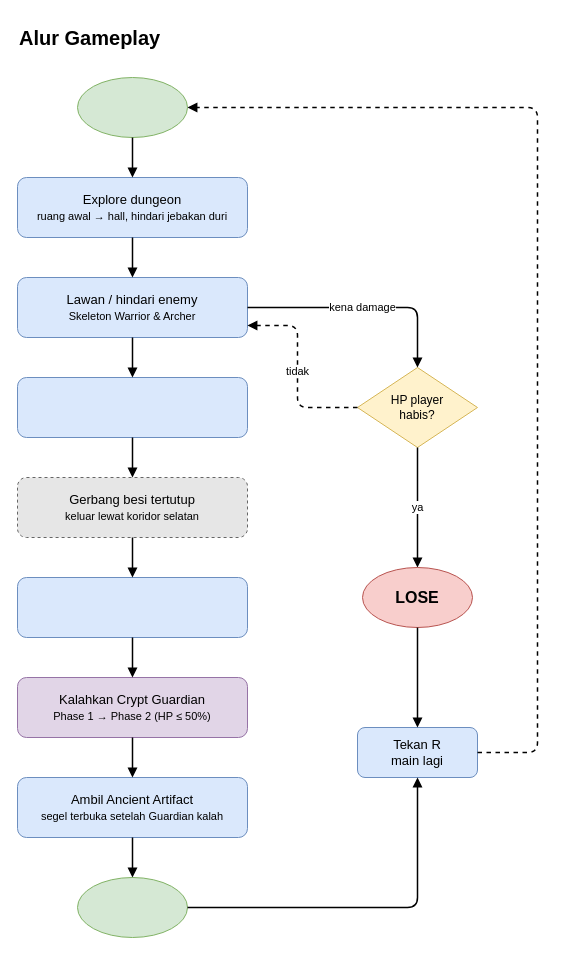
This 564x955 diagram has some shape labels left out. Each missing label, with the centre of its shape:
"Ambil Dungeon Key ruang timur, dijaga Archer" belongs at point (132, 407).
"Buka pintu utara butuh Dungeon Key" belongs at point (132, 607).
"START" belongs at point (132, 107).
"WIN" belongs at point (132, 907).
